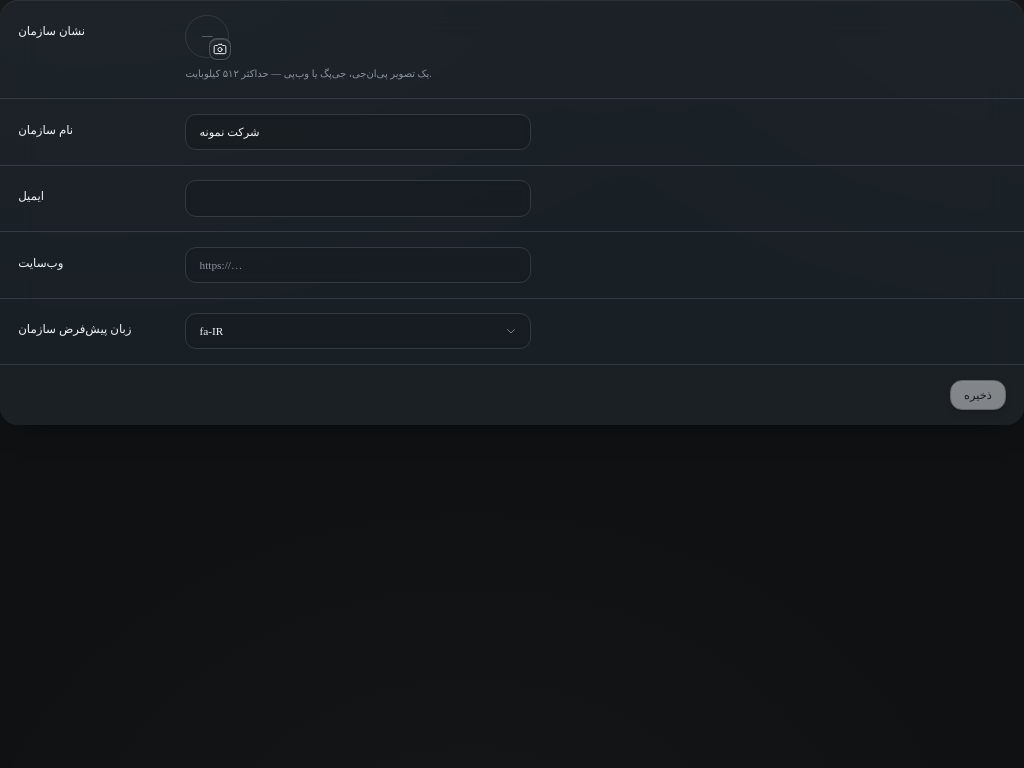
Scenario: a stored locale this build does not offer › shows the stored value rather than a locale the org does not have
Expected: the field showing "شرکت نمونه" is shown, [186,114,531,150]
Click the dropdown at point(211, 331), box [186,313,531,350]
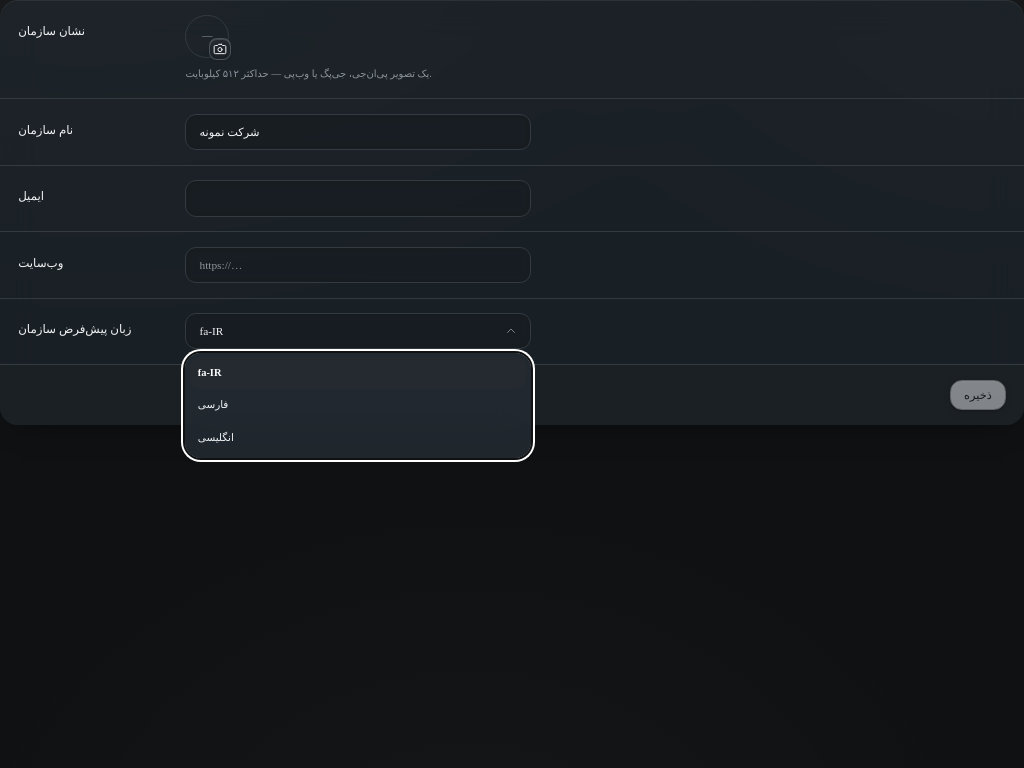
Now the option "fa-IR" is shown, box [189,357,527,389]
